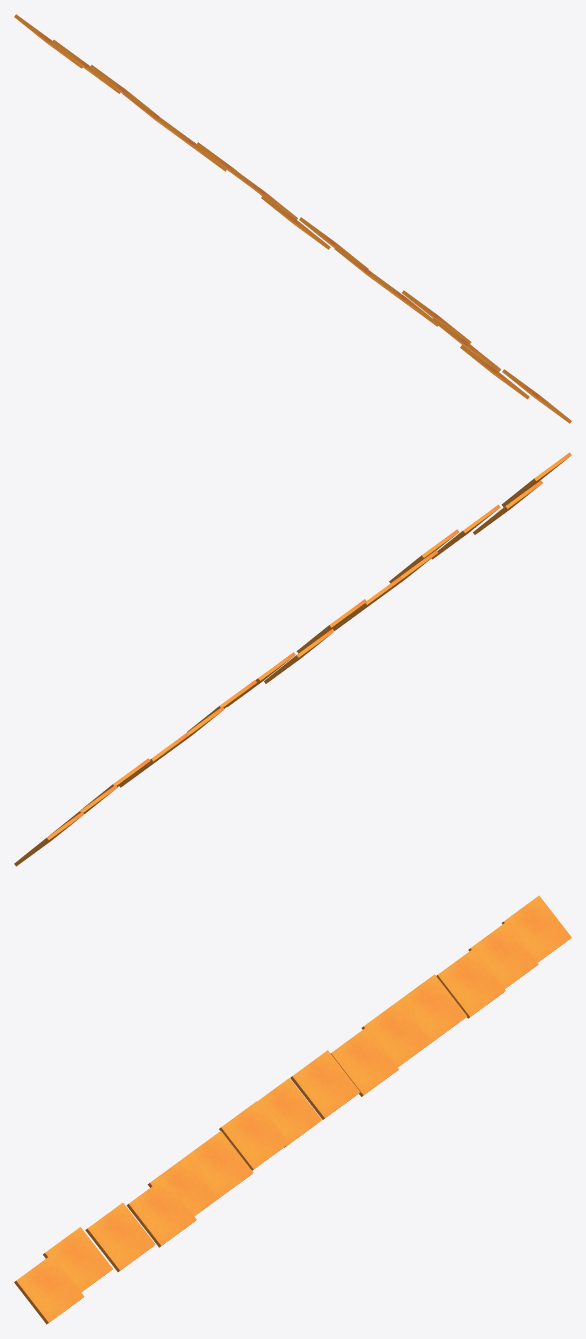
Rendered from Bricks.obj.
3 views of the same model, one above another, from view 1: azimuth 30°, elevation 25°; view 2: azimuth 150°, elevation 25°; view 3: azimuth 330°, elevation 25° (orthographic).
Visible parts, largest first — view 1: no part large enough to name; view 2: no part large enough to name; view 3: Cube.011_Cube.015, Cube.003, Cube.005_Cube.009, Cube.006_Cube.010, Cube.009_Cube.013, Cube.001_Cube.019, Cube.002_Cube.016, Cube.008_Cube.012, Cube.013_Cube.018, Cube.015_Cube.021, Cube.014_Cube.020, Cube.012_Cube.017 (+3 smaller).
Part boxes in pixels (box(x1,y1,x2,y2)): Cube.011_Cube.015: box(290, 1050, 360, 1119); Cube.003: box(14, 1254, 84, 1324); Cube.005_Cube.009: box(85, 1202, 155, 1271); Cube.006_Cube.010: box(126, 1178, 196, 1247); Cube.009_Cube.013: box(219, 1101, 289, 1170); Cube.001_Cube.019: box(436, 949, 505, 1018); Cube.002_Cube.016: box(330, 1027, 398, 1096); Cube.008_Cube.012: box(185, 1131, 253, 1198); Cube.013_Cube.018: box(399, 974, 467, 1042); Cube.015_Cube.021: box(501, 895, 571, 962); Cube.014_Cube.020: box(468, 922, 538, 989); Cube.012_Cube.017: box(361, 1000, 431, 1066).
Size of the model in its own units: 3.07 by 2.47 by 59.
